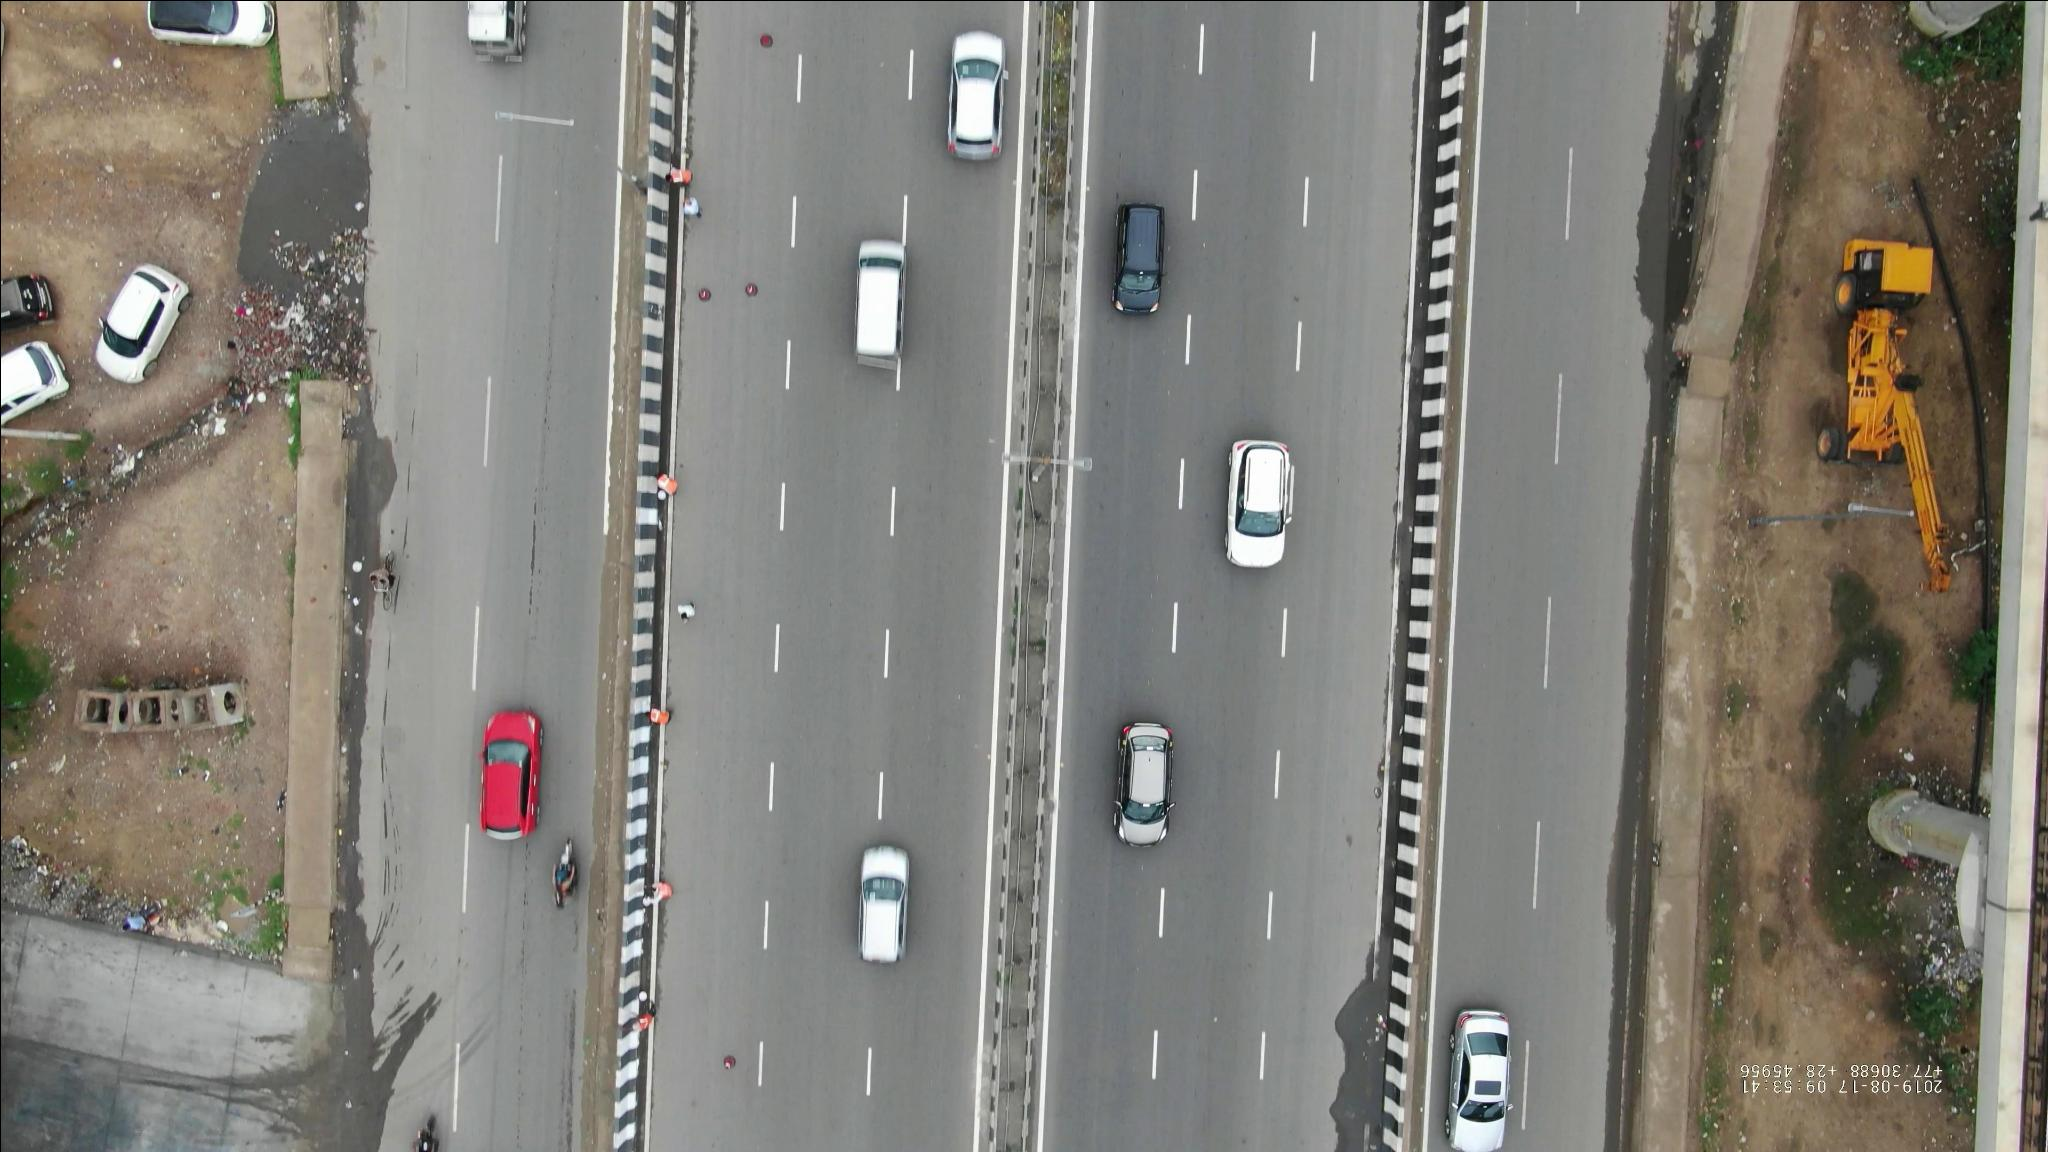Waterlogging: (236, 120, 380, 387)
